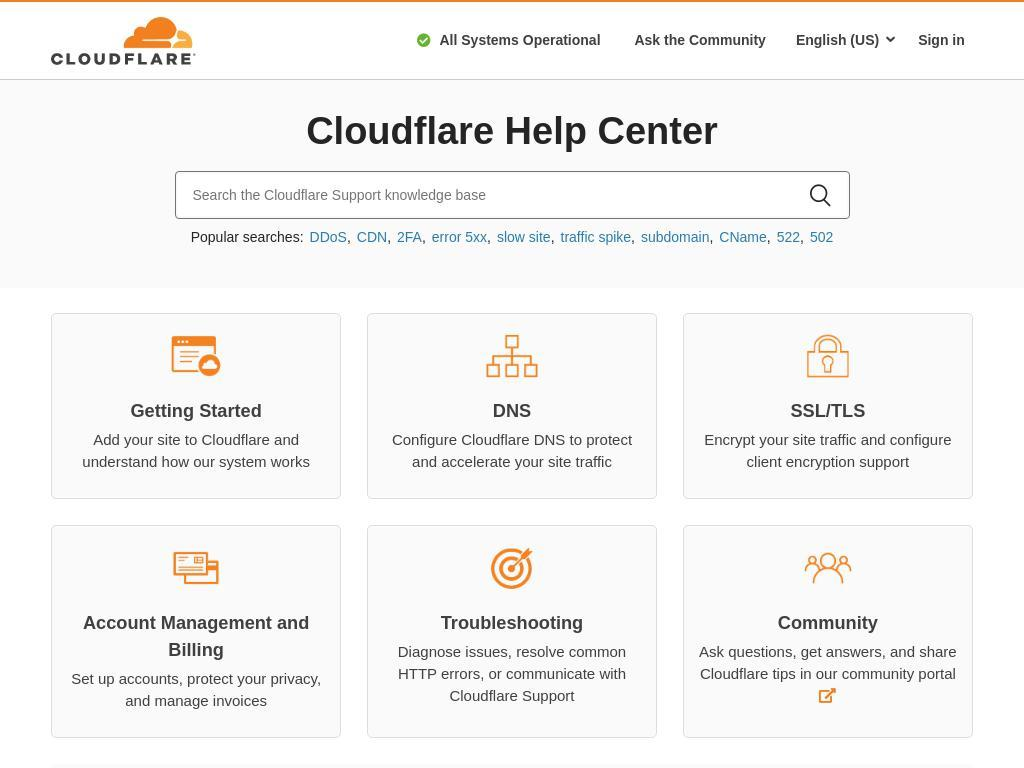button: (52, 526, 341, 737), (683, 526, 972, 732), (368, 526, 656, 732), (52, 314, 341, 498), (683, 314, 972, 498), (368, 314, 656, 498), (402, 2, 616, 79), (619, 2, 781, 79), (780, 1, 911, 80), (910, 2, 973, 79)
field: (177, 174, 807, 216), (806, 174, 847, 216)
heading: (174, 110, 850, 153), (66, 610, 327, 664), (66, 398, 327, 425), (697, 398, 958, 425), (697, 610, 958, 637), (382, 398, 642, 425), (382, 610, 642, 637)
image: (51, 16, 196, 65), (164, 324, 229, 388), (164, 536, 229, 600), (795, 536, 860, 600), (480, 324, 544, 388), (480, 536, 544, 600), (802, 324, 854, 388)
link: (382, 641, 642, 707), (66, 429, 327, 473), (697, 429, 958, 473), (66, 668, 327, 712), (382, 429, 642, 473), (560, 229, 635, 245), (640, 229, 713, 245), (431, 229, 491, 245), (496, 229, 555, 245), (719, 229, 772, 245), (309, 229, 351, 245), (356, 229, 391, 245), (397, 229, 427, 245), (776, 229, 804, 245), (809, 229, 833, 245)
text: (699, 643, 958, 682), (439, 32, 601, 48), (187, 227, 307, 248)
